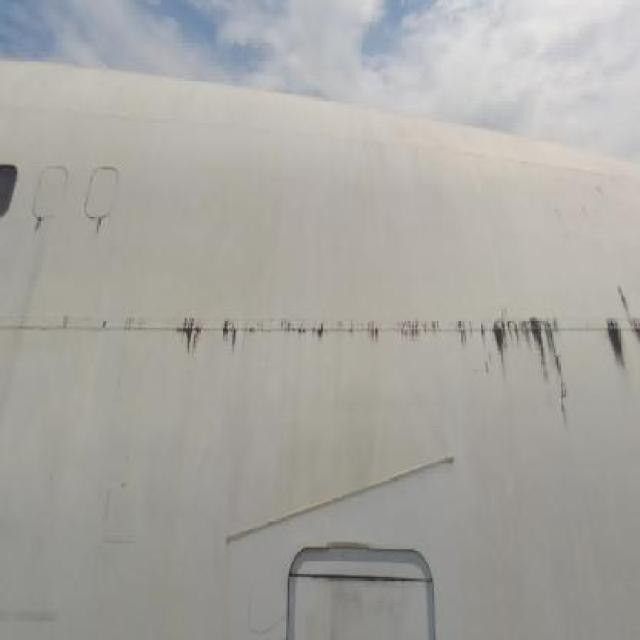Rust: (161, 278, 640, 426), (33, 218, 50, 237), (96, 216, 105, 239)
Scartch: (327, 580, 425, 638), (1, 598, 65, 634)
